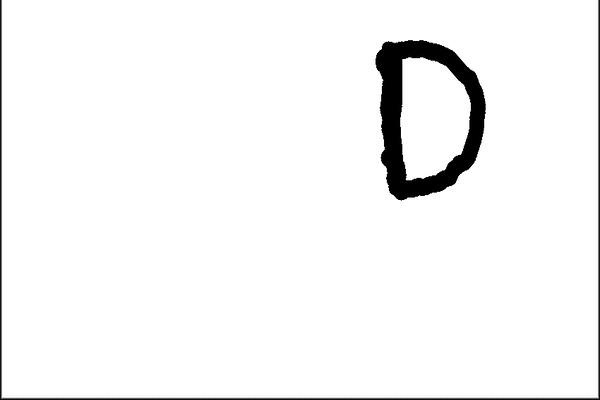D: (369, 33, 491, 205)
